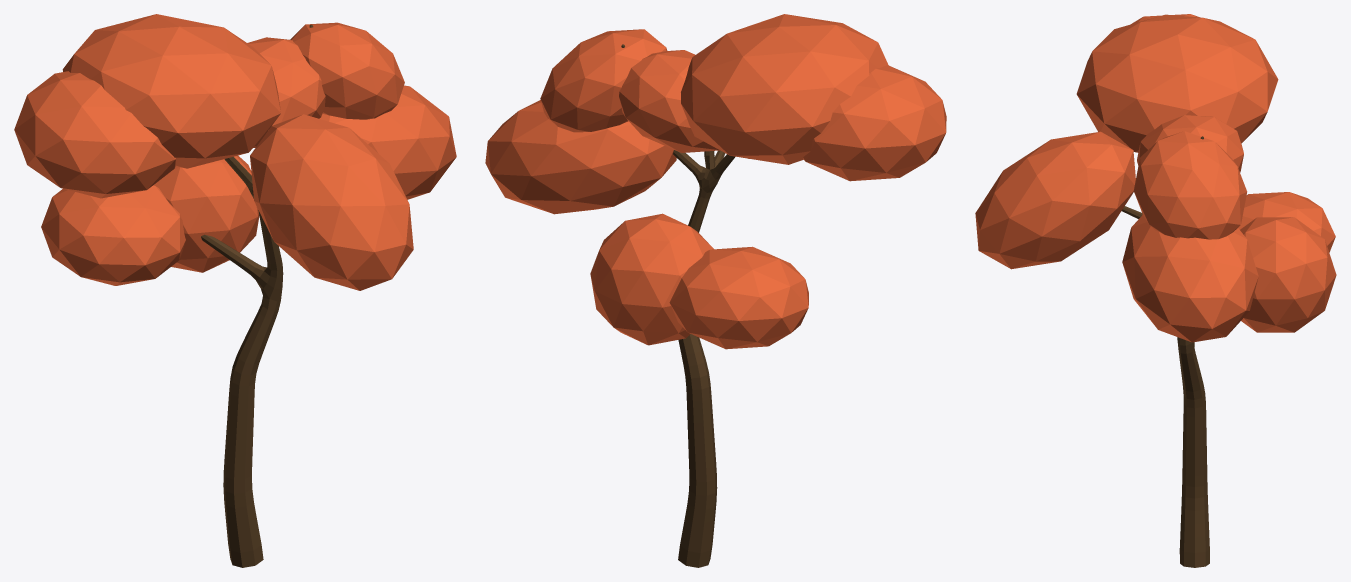
File: Tree1.fbx
3 views of the same model, side by side, from view 1: azimuth 30°, elevation 25°; view 2: azimuth 150°, elevation 25°; view 3: azimuth 270°, elevation 25° (orthographic). The views are drawn at different scales.
Visible parts, largest first — view 1: Tree; view 2: Tree; view 3: Tree.
Boxes of the visible parts, x1,y1,x2,y2 form: Tree: (14, 14, 456, 567); Tree: (485, 14, 946, 567); Tree: (975, 14, 1336, 567).
Size of the model in its own units: 984 by 1200 by 789.
